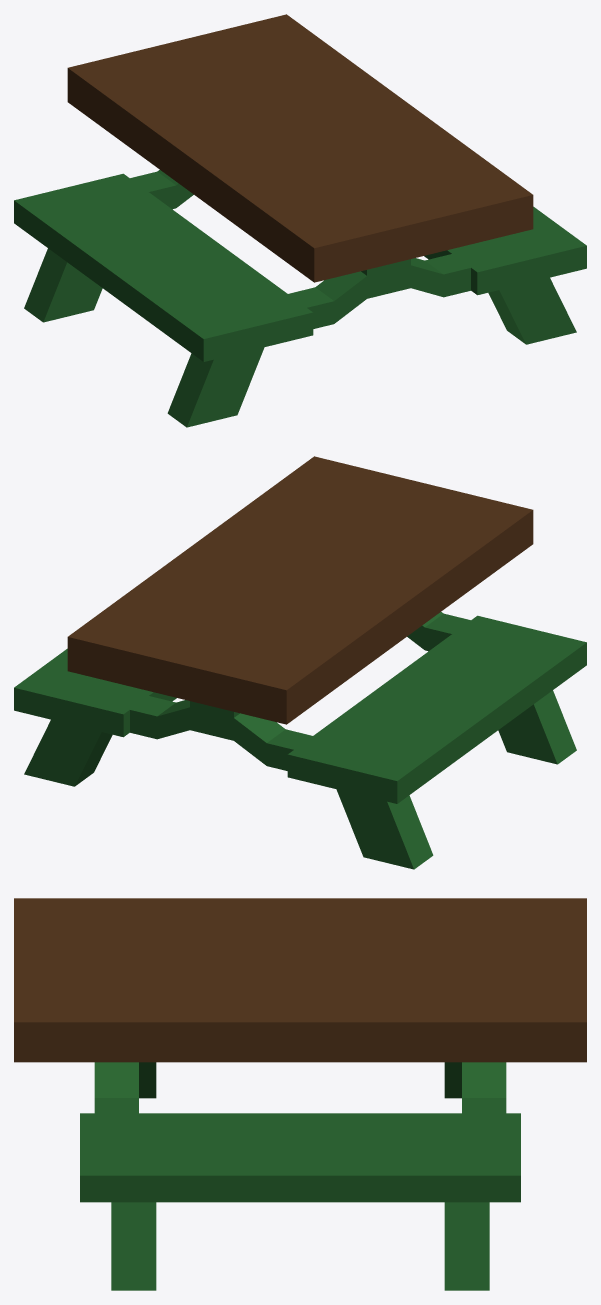
The model's file is mod_structure_table.fbx.
3 views of the same model, one above another, from view 1: azimuth 30°, elevation 25°; view 2: azimuth 150°, elevation 25°; view 3: azimuth 270°, elevation 25° (orthographic). The views are drawn at different scales.
Parts seen in each view (by area): view 1: mesh_table; view 2: mesh_table; view 3: mesh_table.
Part boxes in pixels (left/top/right/bottom): mesh_table: left=14, top=14, right=586, bottom=427; mesh_table: left=14, top=456, right=586, bottom=869; mesh_table: left=14, top=898, right=586, bottom=1290.
Size of the model in its own units: 713 by 330 by 780.
